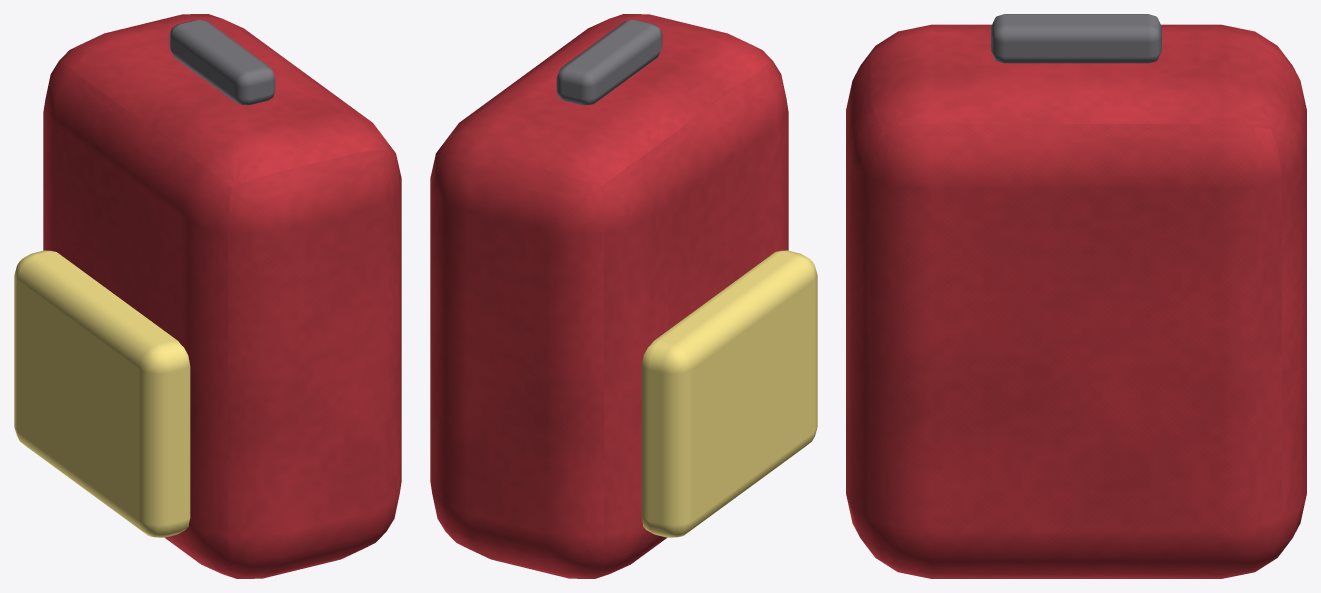
The model's file is escena.casa.mochila_escolar.fbx.
3 renders of one model, left to right at view 1: azimuth 30°, elevation 25°; view 2: azimuth 150°, elevation 25°; view 3: azimuth 270°, elevation 25°, orthographic. The views are drawn at different scales.
Parts seen in each view (by area): view 1: Cuerpo, Bolsillo, Asa; view 2: Cuerpo, Bolsillo, Asa; view 3: Cuerpo, Asa.
Boxes of the visible parts, x1,y1,x2,y2 form: Cuerpo: (43, 14, 401, 578); Bolsillo: (14, 250, 190, 537); Asa: (169, 20, 275, 105); Cuerpo: (430, 14, 788, 578); Bolsillo: (641, 250, 817, 537); Asa: (556, 20, 662, 105); Cuerpo: (846, 24, 1306, 578); Asa: (991, 14, 1161, 63).
Size of the model in its own units: 0.19 by 0.3425 by 0.27.
3 materials, 1 textured.
